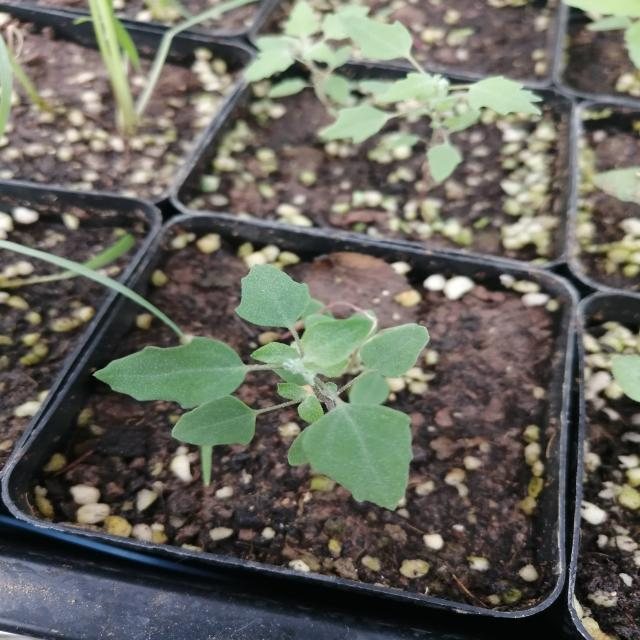goosefoots: (126, 261, 461, 509), (294, 8, 540, 183)
